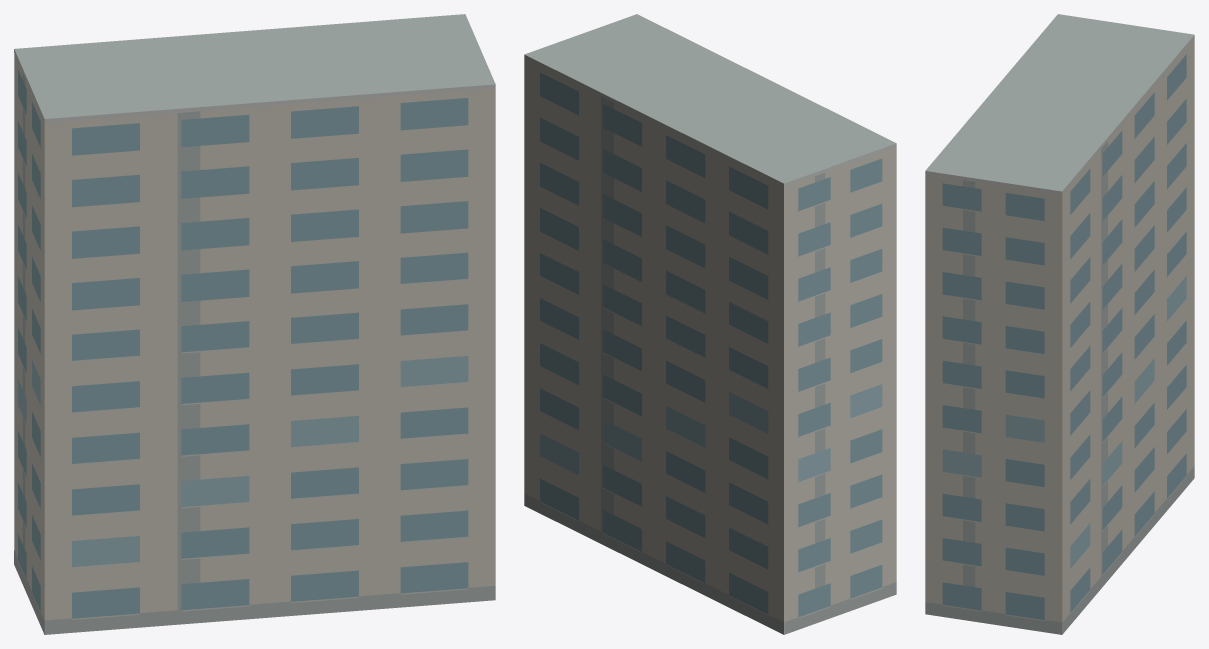
The model's file is residential-223028ce-622d-4939-951c-4056a1365950.glb.
The picture shows the model from 3 angles, left to right: view 1: azimuth 30°, elevation 25°; view 2: azimuth 150°, elevation 25°; view 3: azimuth 270°, elevation 25°; orthographic projection. The views are drawn at different scales.
Parts seen in each view (by area): view 1: residential-223028ce-622d-4939-951c-4056a1365950.tmp; view 2: residential-223028ce-622d-4939-951c-4056a1365950.tmp; view 3: residential-223028ce-622d-4939-951c-4056a1365950.tmp.
Part boxes in pixels (<box>): residential-223028ce-622d-4939-951c-4056a1365950.tmp: <box>14,14,495,634</box>; residential-223028ce-622d-4939-951c-4056a1365950.tmp: <box>524,14,896,634</box>; residential-223028ce-622d-4939-951c-4056a1365950.tmp: <box>925,14,1194,634</box>.
Size of the model in its own units: 25.77 by 30 by 16.53.
